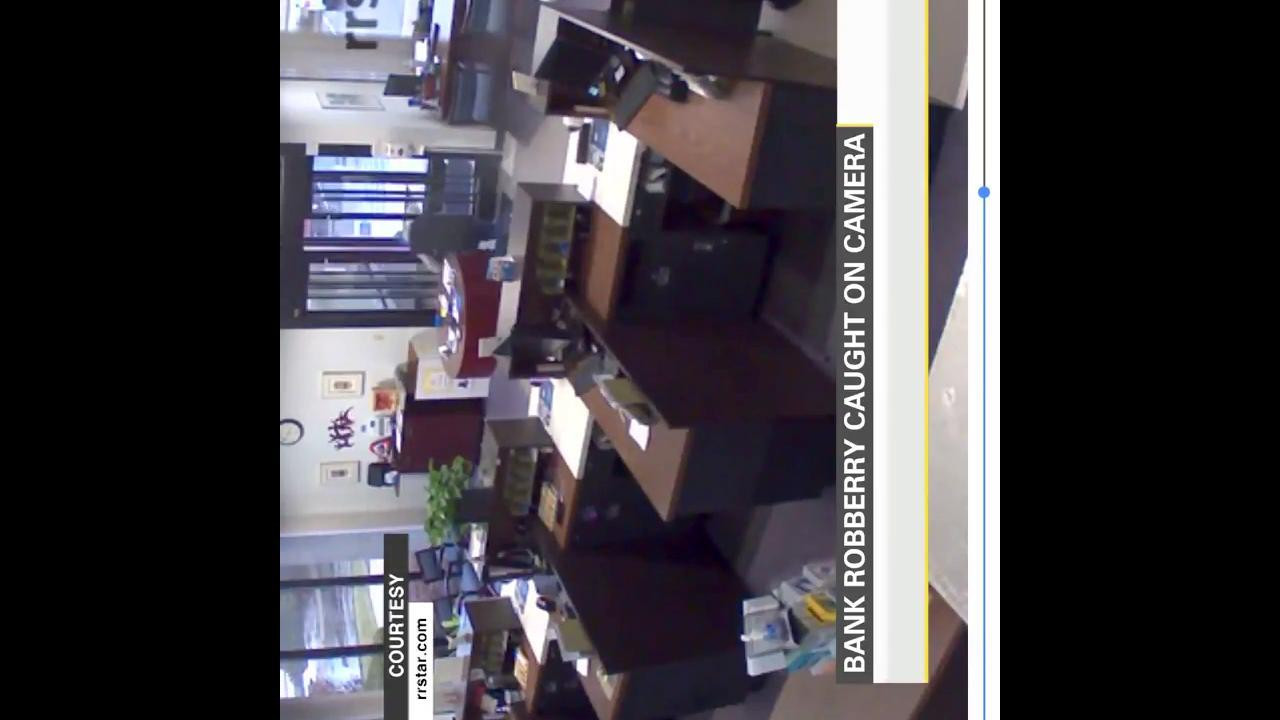gun: (489, 0, 519, 10)
